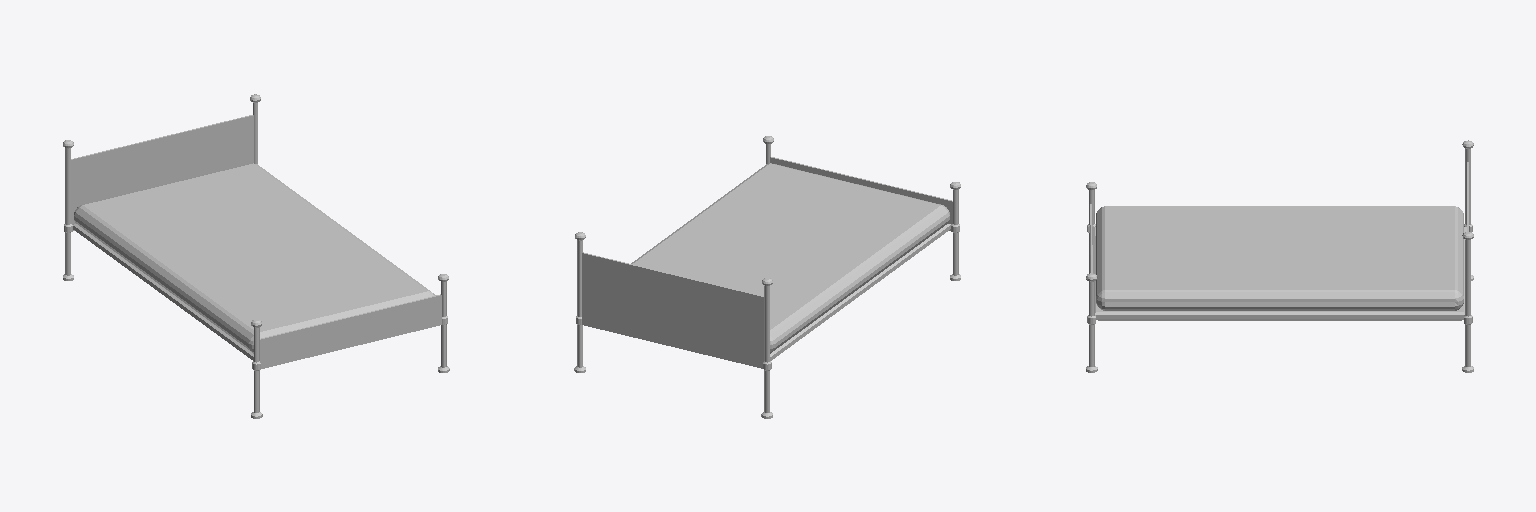
The model's file is bed1.obj.
The picture shows the model from 3 angles: view 1: azimuth 30°, elevation 25°; view 2: azimuth 150°, elevation 25°; view 3: azimuth 270°, elevation 25°; orthographic projection.
Visible parts, largest first — view 1: Mesh; view 2: Mesh; view 3: Mesh.
Boxes of the visible parts, box(x1,y1,x2,y2) form: Mesh: box(63, 94, 449, 418); Mesh: box(574, 136, 960, 418); Mesh: box(1086, 140, 1473, 372).
Size of the model in its own units: 2.09 by 1.39 by 3.56.